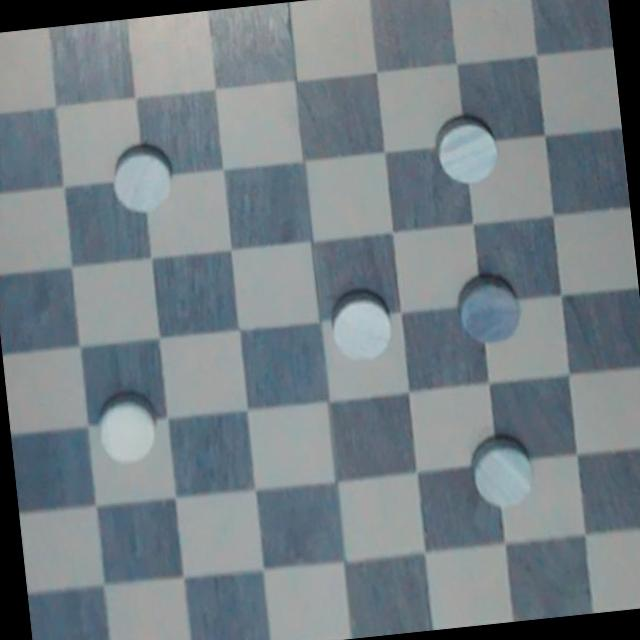BOARD: (0, 0, 640, 640)
white: (312, 270, 404, 373), (460, 420, 548, 520), (446, 264, 532, 356), (90, 382, 174, 468), (103, 136, 181, 222), (430, 108, 507, 194)
